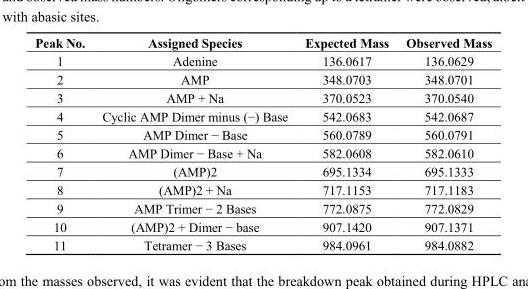table: (34, 35, 491, 252)
table column: (92, 35, 295, 252), (295, 35, 396, 252), (396, 35, 491, 252), (34, 35, 92, 252)
table column header: (34, 35, 491, 51)
table row: (34, 69, 491, 88), (34, 106, 491, 125), (34, 143, 491, 162), (34, 198, 491, 217), (34, 51, 491, 69), (34, 88, 491, 106), (34, 125, 491, 143), (34, 162, 491, 180), (34, 180, 491, 198), (34, 217, 491, 235), (34, 235, 491, 252), (34, 35, 491, 51)
